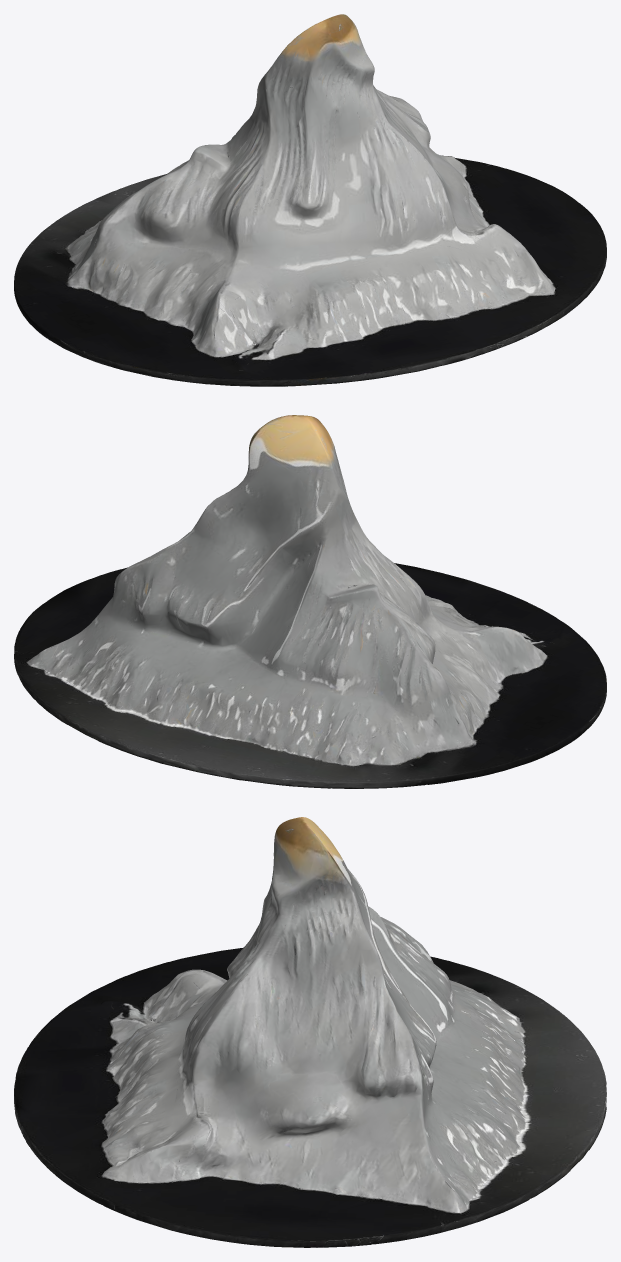
The model's file is matterhorn.glb.
3 renders of one model, top to bottom at view 1: azimuth 30°, elevation 25°; view 2: azimuth 150°, elevation 25°; view 3: azimuth 270°, elevation 25°, orthographic. The views are drawn at different scales.
Visible parts, largest first — view 1: Mesh_0; view 2: Mesh_0; view 3: Mesh_0.
Part boxes in pixels (left/top/right/bottom): Mesh_0: left=14, top=14, right=606, bottom=386; Mesh_0: left=14, top=415, right=606, bottom=788; Mesh_0: left=14, top=817, right=606, bottom=1247.
Bounding box in the file's own units: 1.9 × 0.859 × 1.6.
Materials: 1 (1 with a texture image).
